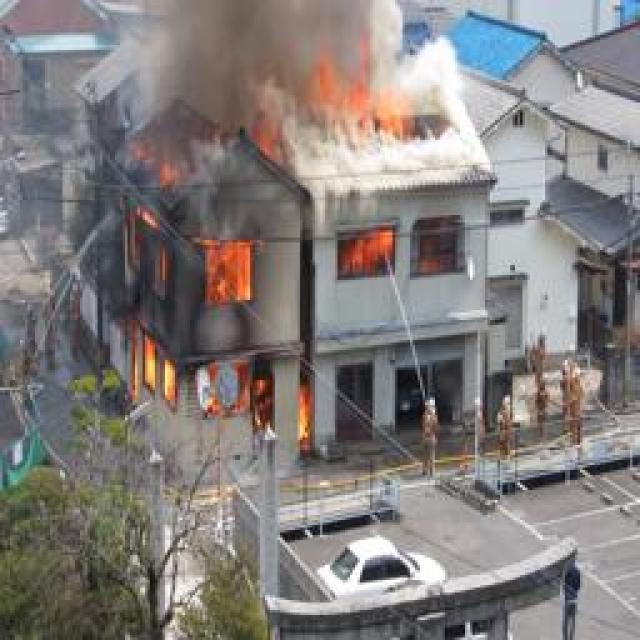Fire: (127, 156, 319, 450), (290, 58, 425, 147), (332, 225, 439, 280)
